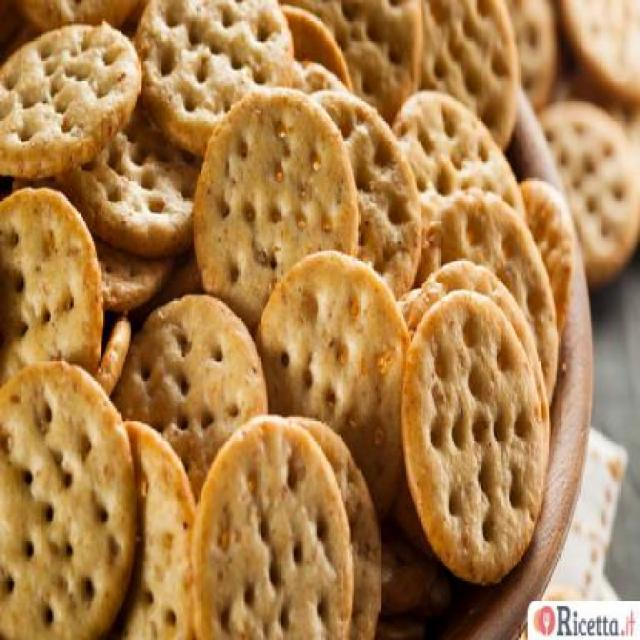Ritz cracker packaged: (6, 6, 558, 609)
